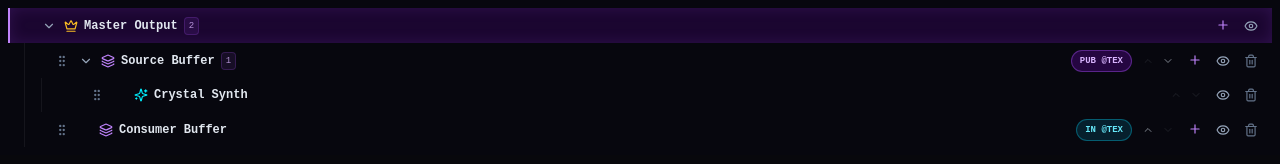
Scenario: LayerTreeView Component › cancels inline renaming without changes on Escape
Double-click the text with test id "tree-label-synth-child" at (201, 95), box [154, 87, 248, 103]
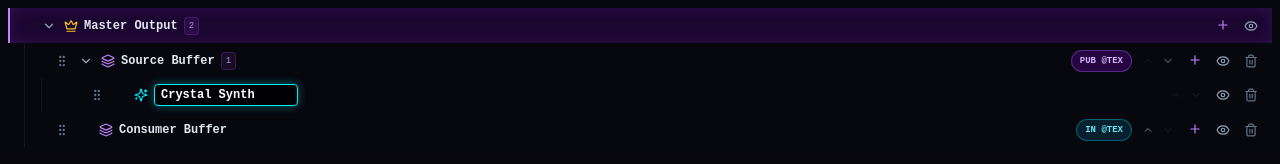
Replace the text in the field with test id "tree-rename-input-synth-child" with "Discarded Name" at (226, 95), box [154, 84, 298, 106]
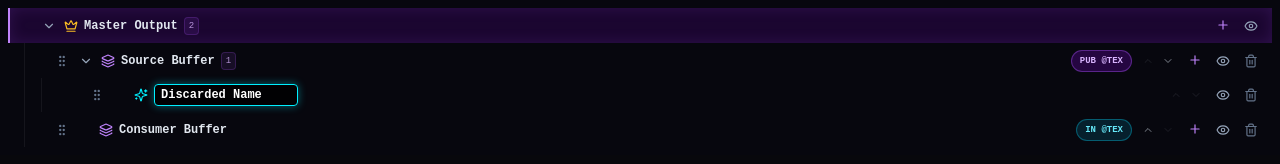
Press Escape in the field with test id "tree-rename-input-synth-child", box [154, 84, 298, 106]
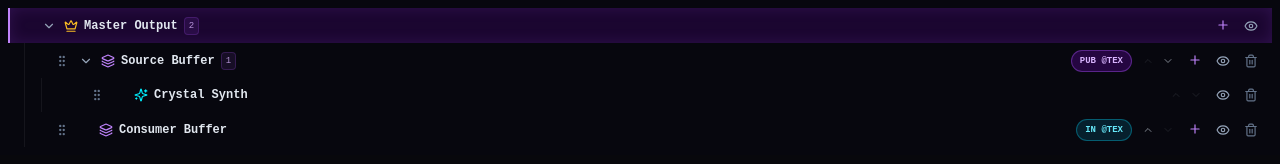
Now the field with test id "tree-rename-input-synth-child" is gone
Now the text with test id "tree-label-synth-child" reads "Crystal Synth", box [154, 88, 248, 102]
